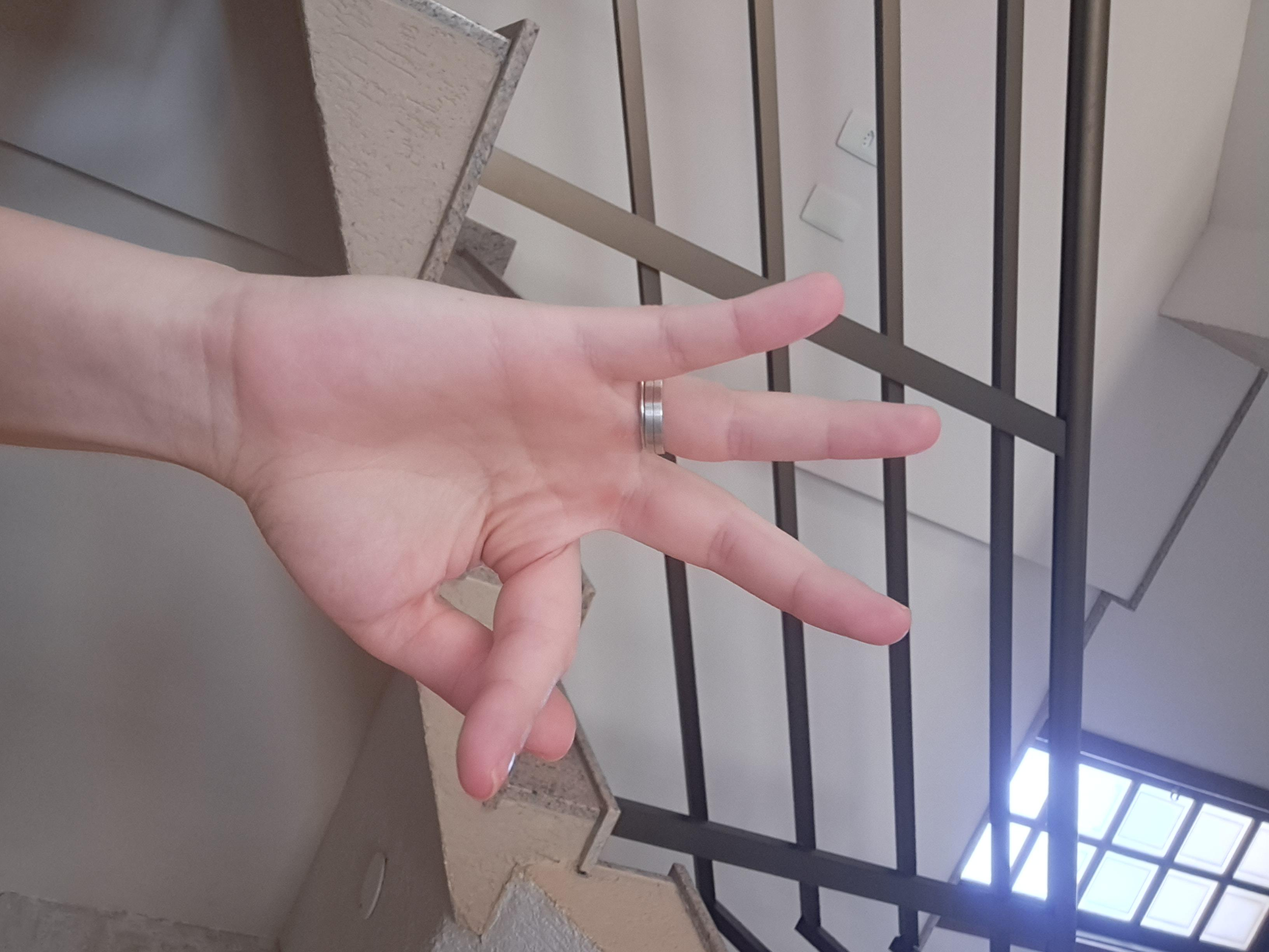F: (327, 228, 1089, 790)
